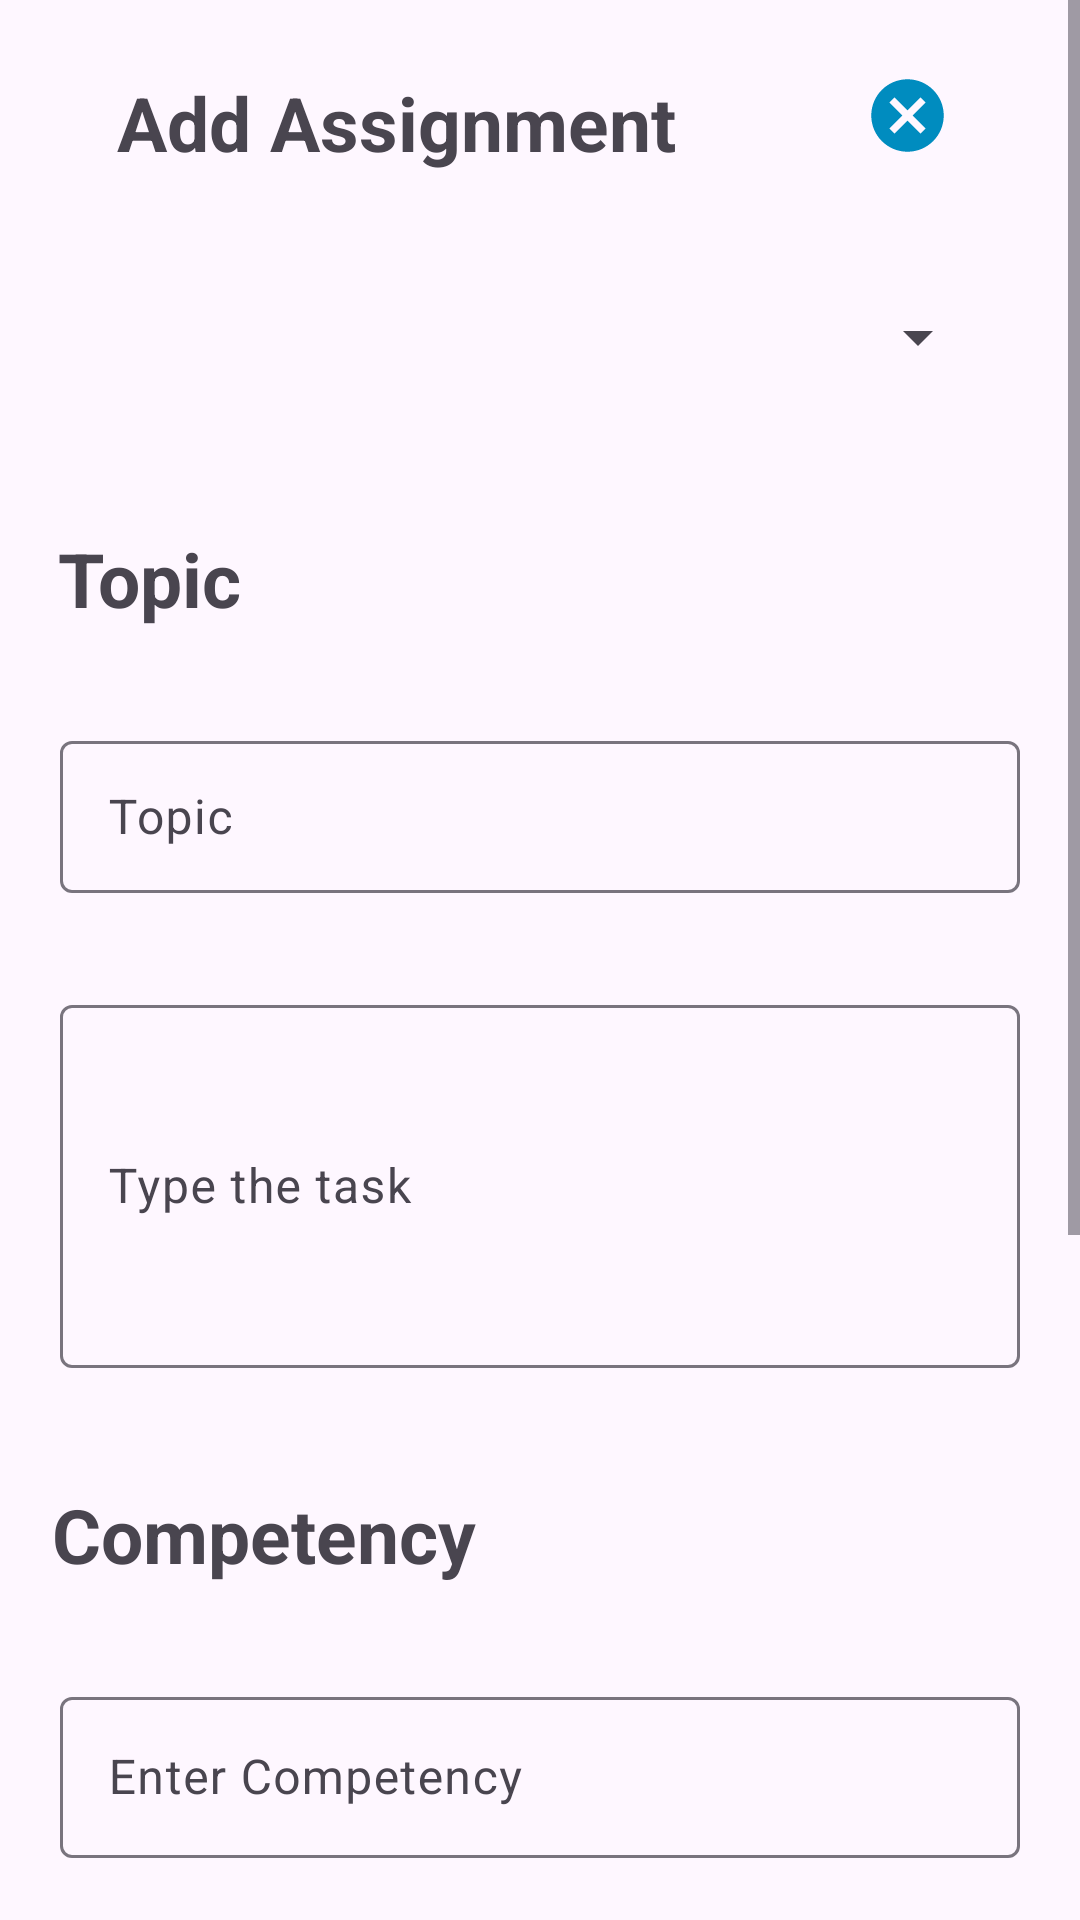

Named icons in this screenshot (1080x1920) and their bounding boxes, (x1, y1, x2, y2):
cancel: (871, 79, 944, 152)
